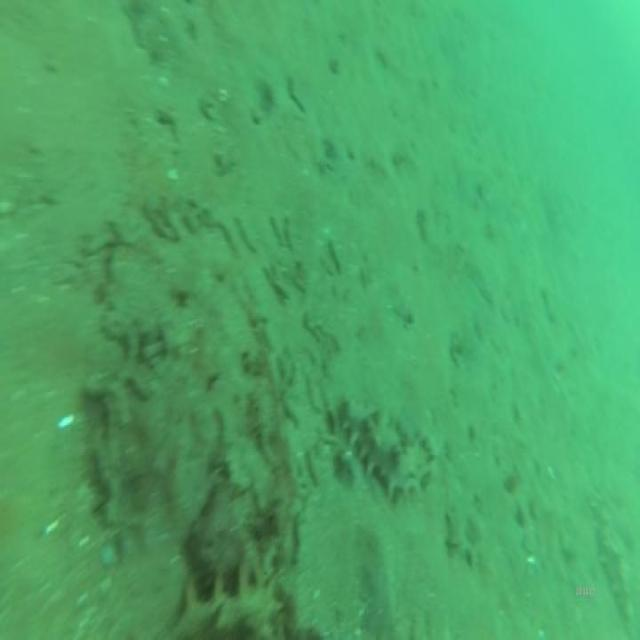holothurian: (340, 393, 431, 501), (172, 554, 286, 640)
